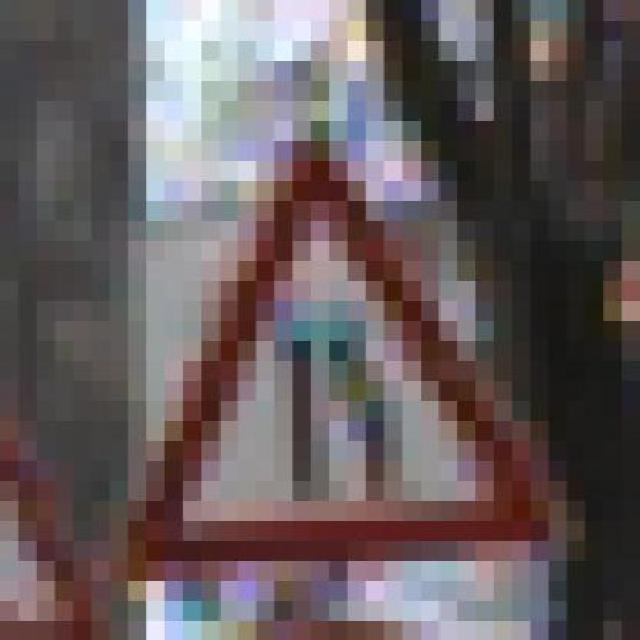-Road narrows on right: (110, 120, 567, 580)
